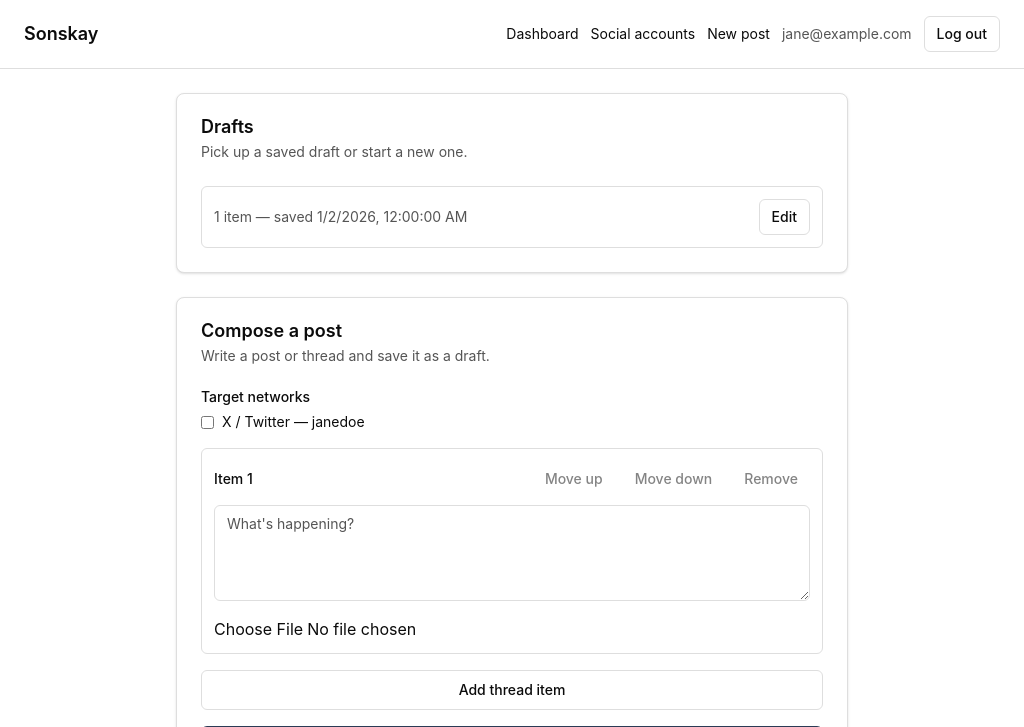
Test case: post composer page › lists saved drafts and loads one back into the editor
Check: the text "1 item — saved 1/2/2026, 12:00:00 AM" is shown, box [214, 207, 467, 227]
What coordinates should you click on to do the following:
click the button "Edit"
I would click on:
 (784, 217)
Its box is [759, 199, 810, 235].
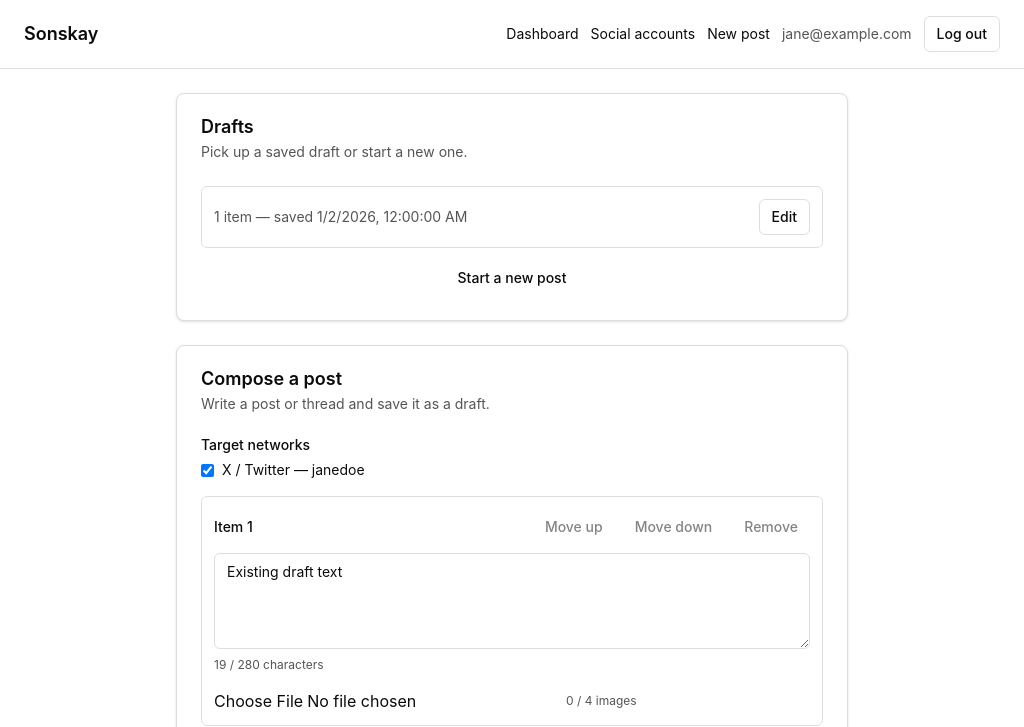
Check: the text box showing "Existing draft text" is shown, box [214, 553, 810, 649]
Check: the checkbox is checked, box [201, 464, 214, 476]
